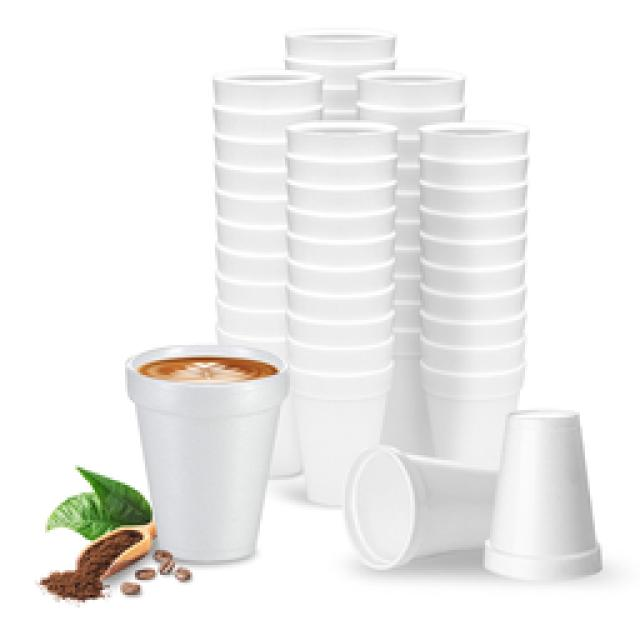styrofoam: (212, 32, 600, 578), (127, 360, 289, 565)
